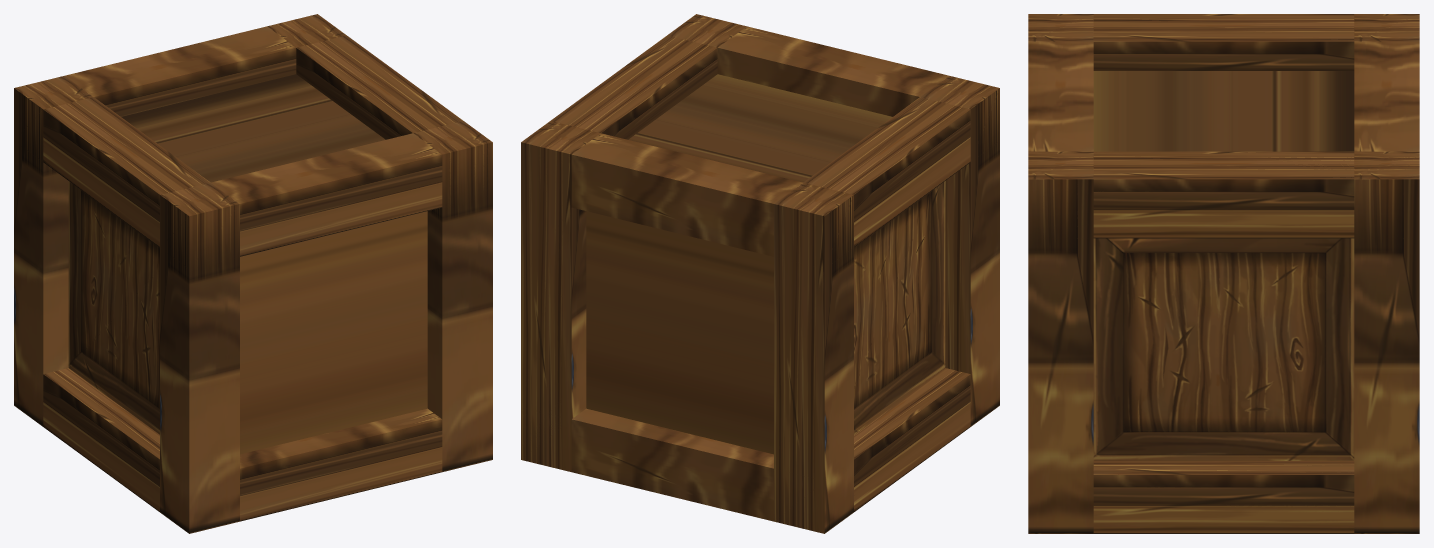
File: broken_crate.fbx
3 views of the same model, side by side, from view 1: azimuth 30°, elevation 25°; view 2: azimuth 150°, elevation 25°; view 3: azimuth 270°, elevation 25° (orthographic). The views are drawn at different scales.
Parts seen in each view (by area): view 1: shard12, shard8, shard7, shard11, shard1; view 2: shard12, shard7, shard8, shard1, shard11; view 3: shard11, shard1, shard7, shard8, shard12.
Boxes of the visible parts, x1,y1,x2,y2 form: shard12: [14, 74, 319, 496]; shard8: [136, 232, 492, 533]; shard7: [69, 17, 392, 259]; shard11: [341, 162, 492, 397]; shard1: [306, 14, 492, 216]; shard12: [658, 72, 999, 533]; shard7: [533, 38, 932, 303]; shard8: [521, 305, 999, 518]; shard1: [521, 14, 795, 312]; shard11: [521, 279, 644, 445]; shard11: [1028, 201, 1419, 518]; shard1: [1028, 125, 1419, 331]; shard7: [1028, 44, 1419, 172]; shard8: [1028, 420, 1419, 533]; shard12: [1028, 14, 1419, 91].
Size of the model in its own units: 1.2 by 1.2 by 1.2.
1 material, 1 textured.
